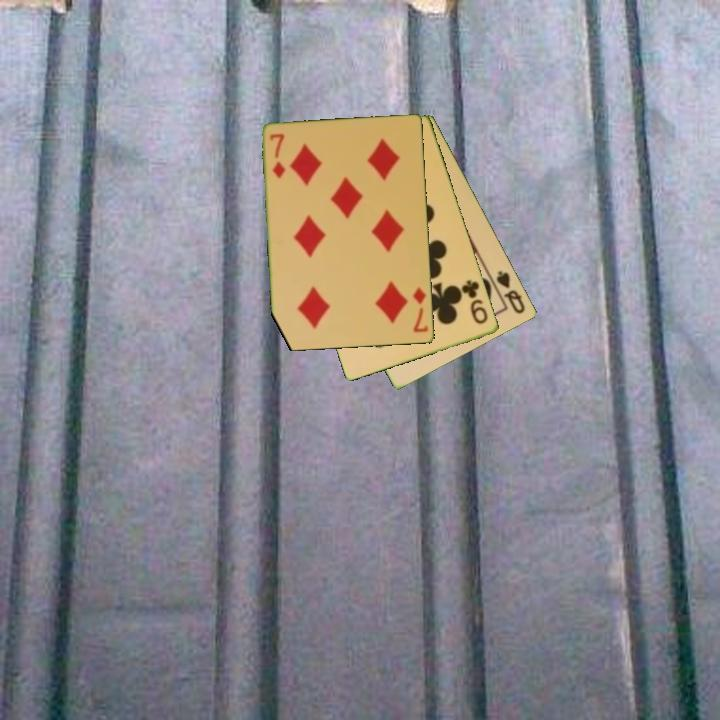7d: (409, 284, 431, 336), (267, 130, 289, 181)
9c: (458, 276, 491, 327)
Qs: (493, 267, 528, 317)
